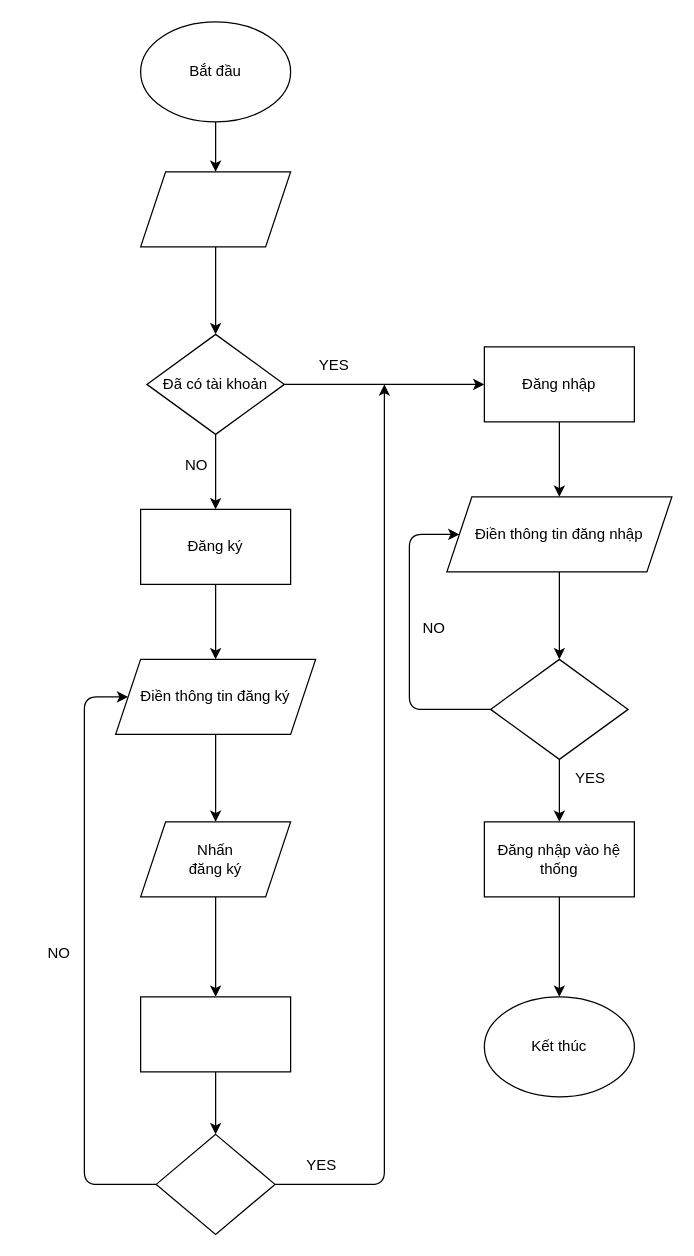
Image size: 694x1256. Some labels were removed from this diagram. The centre of each missing label's shape, as x and y in pixels:
"Mở ứng dụng" goes at point 215,209.
"Thành công" goes at point 215,1183.
"Thông tin chính xác" goes at point 558,708.
"Xác thực" goes at point 215,1034.
